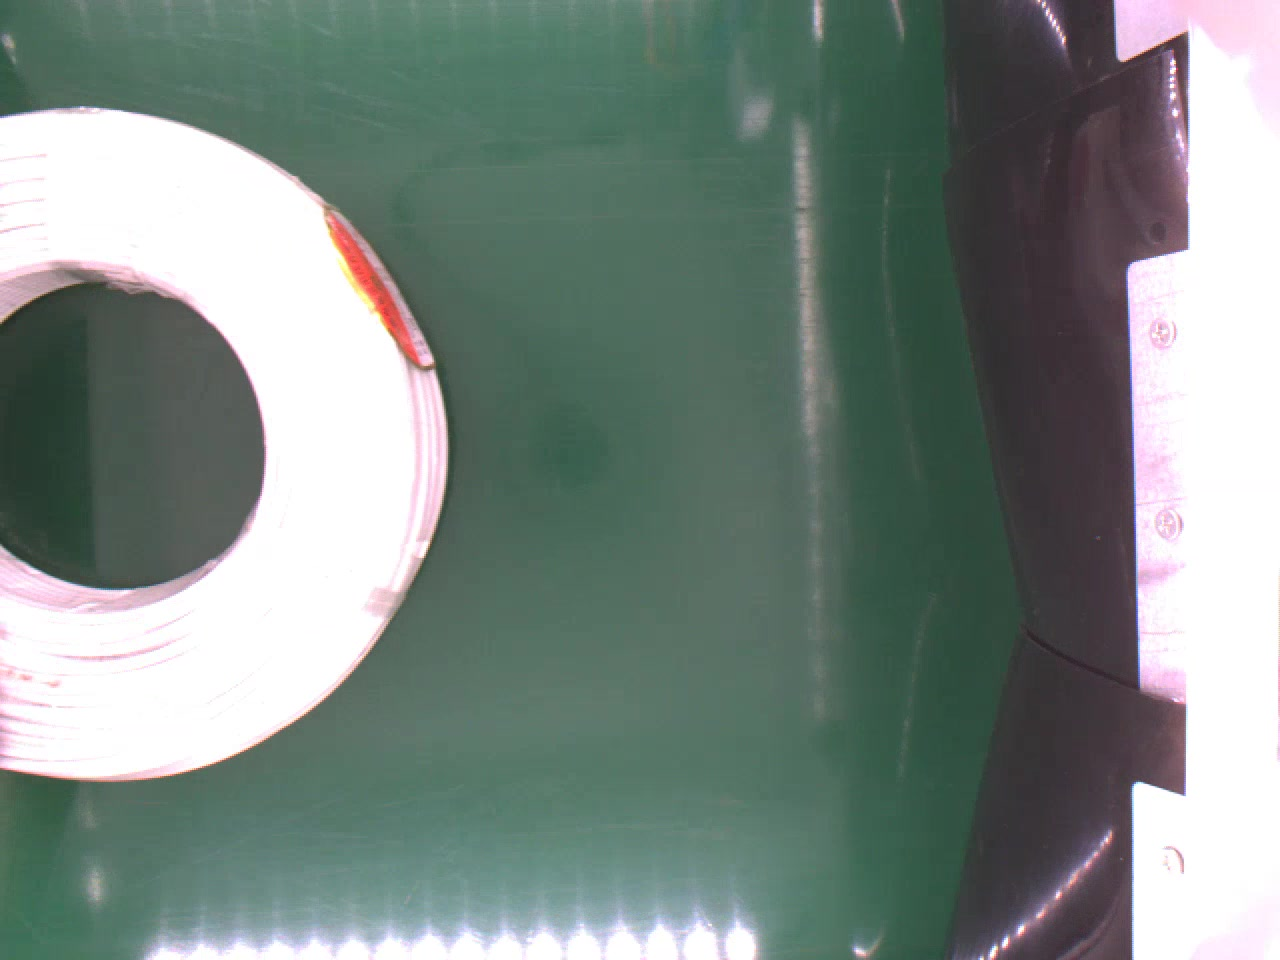white: (0, 101, 452, 787)
